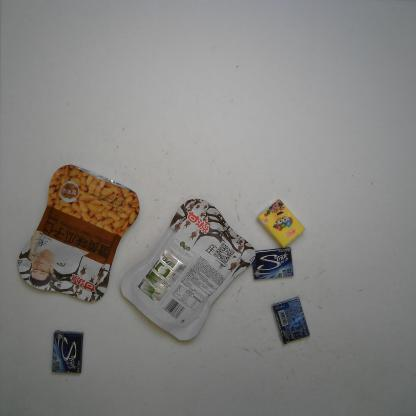Dried Fruit: (121, 198, 263, 341), (17, 164, 140, 302)
Gum: (270, 296, 310, 345), (52, 329, 84, 374), (251, 247, 294, 280)
Tissue: (257, 197, 306, 248)
